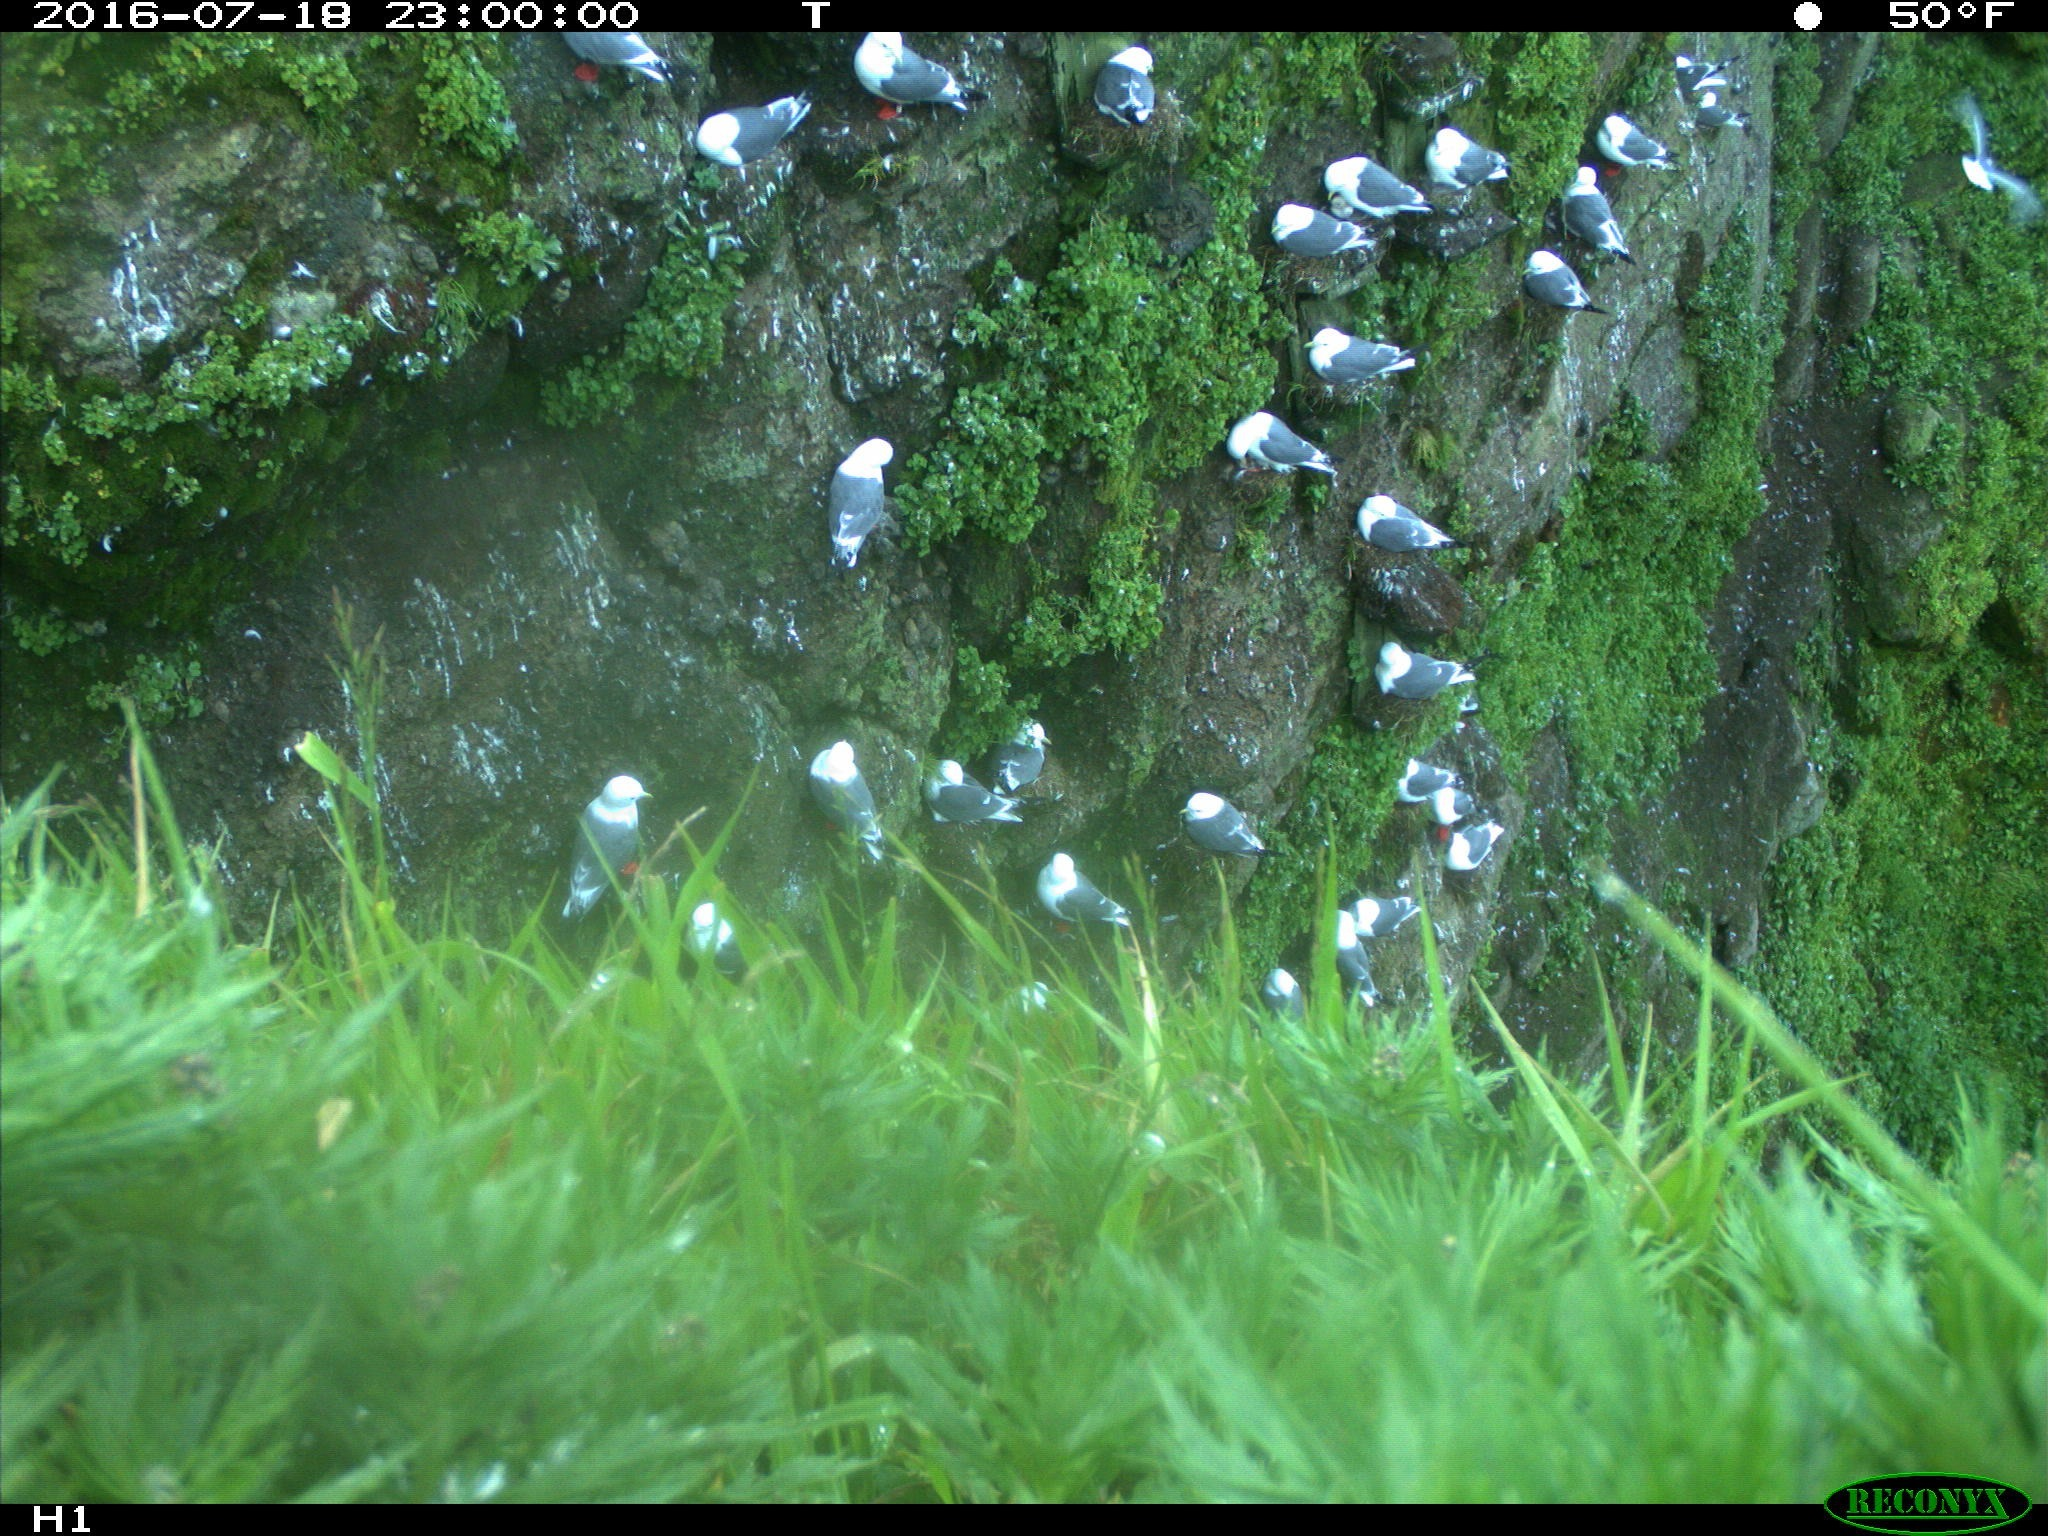Kittiwake: (552, 745, 664, 957), (810, 402, 918, 607), (797, 733, 913, 892), (830, 27, 998, 134), (668, 81, 837, 186), (1940, 73, 2048, 227), (1203, 387, 1367, 489), (1156, 784, 1309, 887), (1288, 311, 1451, 408), (1330, 471, 1505, 560), (1546, 136, 1658, 269), (1253, 195, 1413, 287), (1051, 34, 1184, 142), (1024, 842, 1147, 952), (1493, 229, 1625, 331), (1297, 144, 1435, 239), (656, 894, 780, 999), (1361, 623, 1492, 721), (1406, 92, 1521, 202), (1663, 47, 1779, 155), (910, 741, 1030, 842), (1314, 908, 1401, 1033), (972, 713, 1080, 812), (1587, 98, 1701, 187), (527, 31, 710, 84), (1390, 745, 1501, 816), (1338, 870, 1442, 941), (1427, 815, 1521, 891), (1255, 954, 1313, 1054), (1400, 787, 1496, 829)
